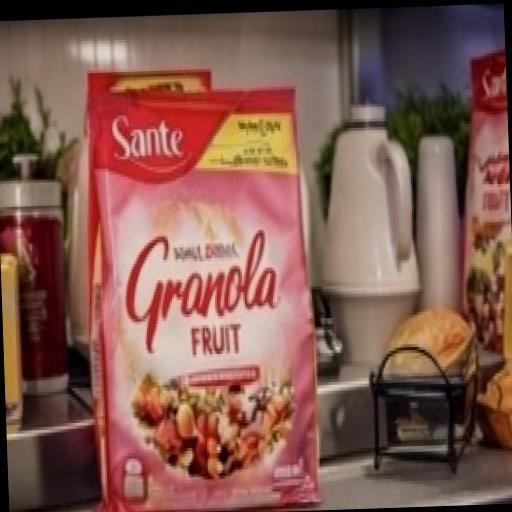granola: (59, 50, 340, 512)
